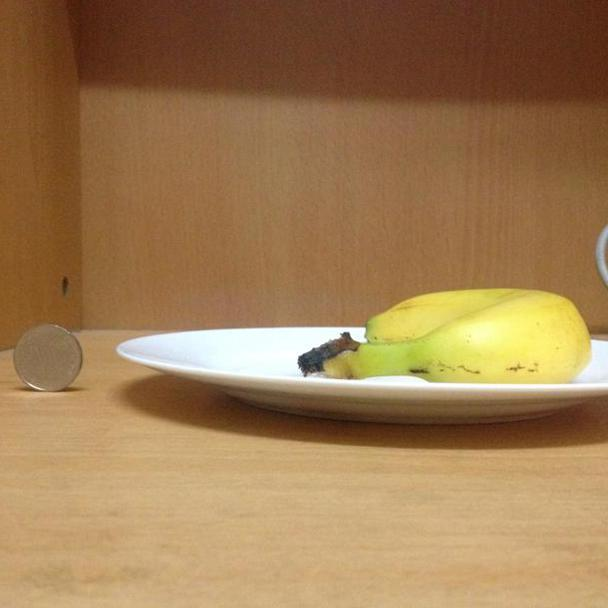banana: (287, 283, 596, 384)
